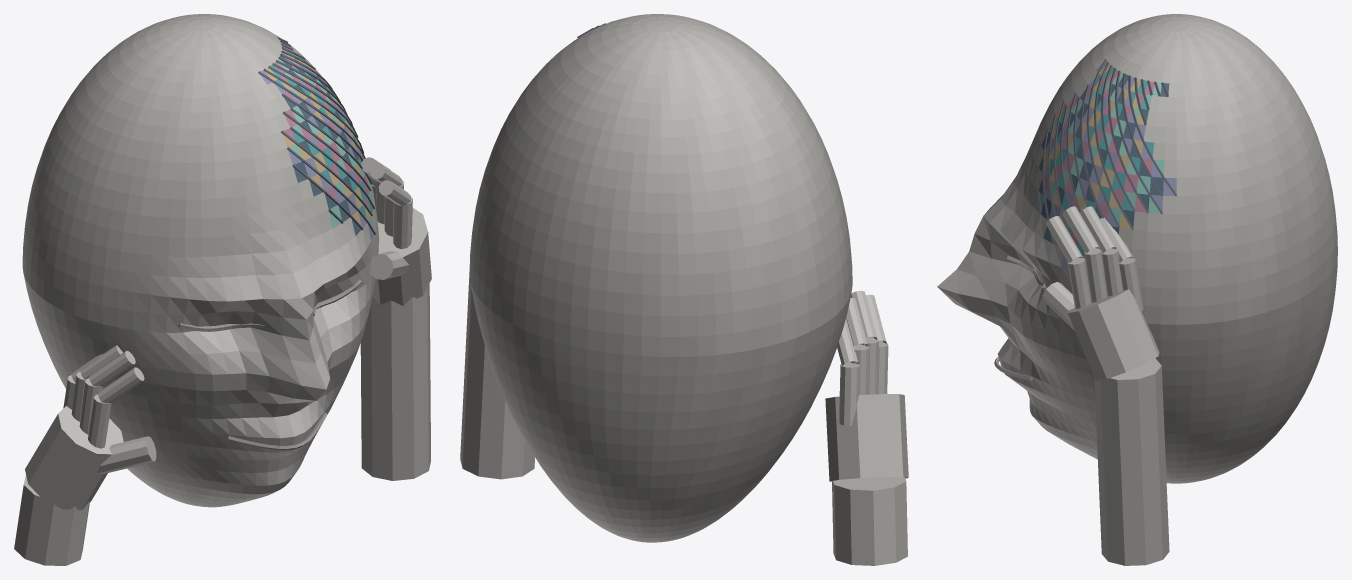
Rendered from head-maze.glb.
The picture shows the model from 3 angles, left to right: view 1: azimuth 30°, elevation 25°; view 2: azimuth 150°, elevation 25°; view 3: azimuth 270°, elevation 25°; orthographic projection. The views are drawn at different scales.
Visible parts, largest first — view 1: head-maze; view 2: head-maze; view 3: head-maze.
Part boxes in pixels (x1,y1,x2,y2): head-maze: [14, 14, 431, 565]; head-maze: [460, 14, 908, 565]; head-maze: [937, 14, 1337, 565].
Bounding box in the file's own units: 10.98 × 12.19 × 9.81.
